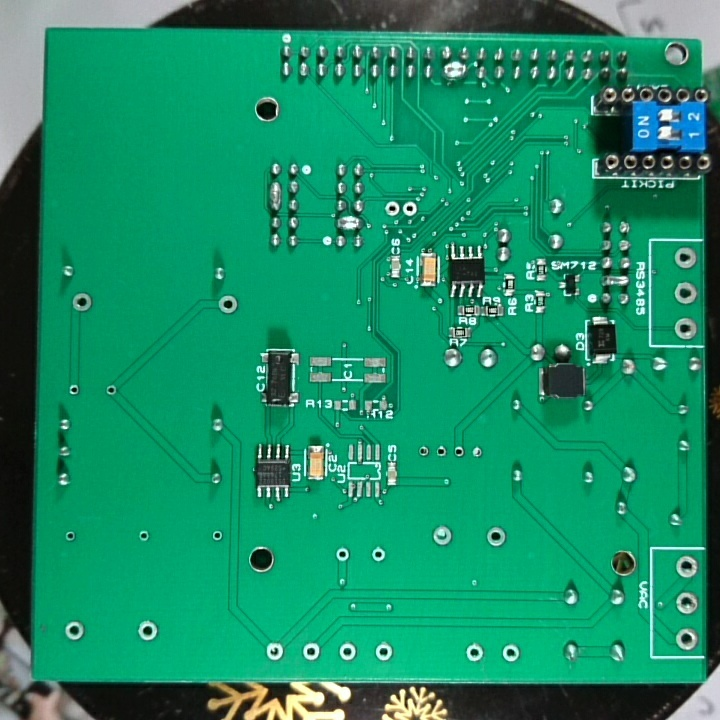F: (671, 315, 698, 343), (69, 289, 96, 317), (429, 523, 455, 550), (673, 553, 699, 579), (674, 589, 699, 616), (61, 619, 88, 644), (674, 626, 699, 652), (673, 245, 697, 271), (673, 280, 697, 306), (215, 292, 241, 316), (137, 618, 161, 643), (483, 524, 508, 548), (499, 641, 522, 664), (263, 640, 285, 663), (464, 642, 485, 665), (301, 641, 322, 663), (368, 544, 389, 565), (374, 640, 394, 662), (337, 641, 357, 663), (402, 198, 421, 220), (382, 198, 400, 220), (468, 443, 486, 463), (333, 546, 352, 564), (134, 526, 151, 546), (102, 380, 119, 400), (62, 527, 79, 546), (417, 441, 432, 462), (209, 525, 225, 543), (451, 442, 465, 462), (66, 381, 81, 398), (434, 443, 448, 461)
P: (333, 213, 364, 232), (267, 180, 284, 212), (599, 272, 631, 289), (441, 60, 468, 79)
